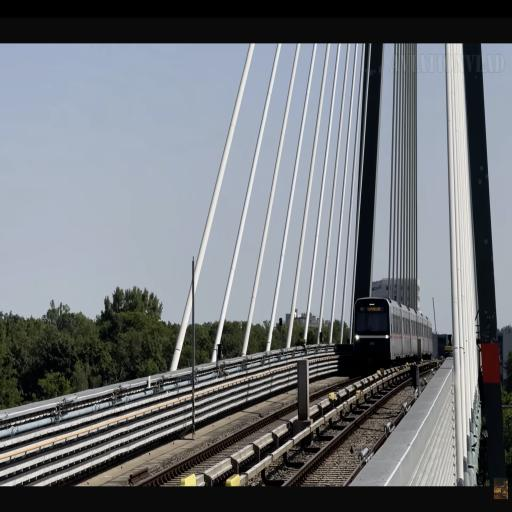X-Wagen: (351, 296, 435, 371)
